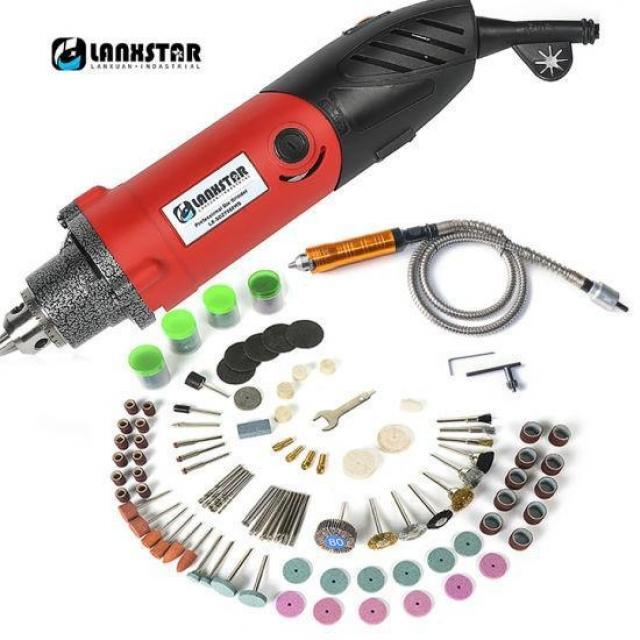drill: (0, 1, 602, 357)
